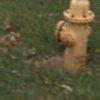Hydrant: (45, 0, 96, 78)
